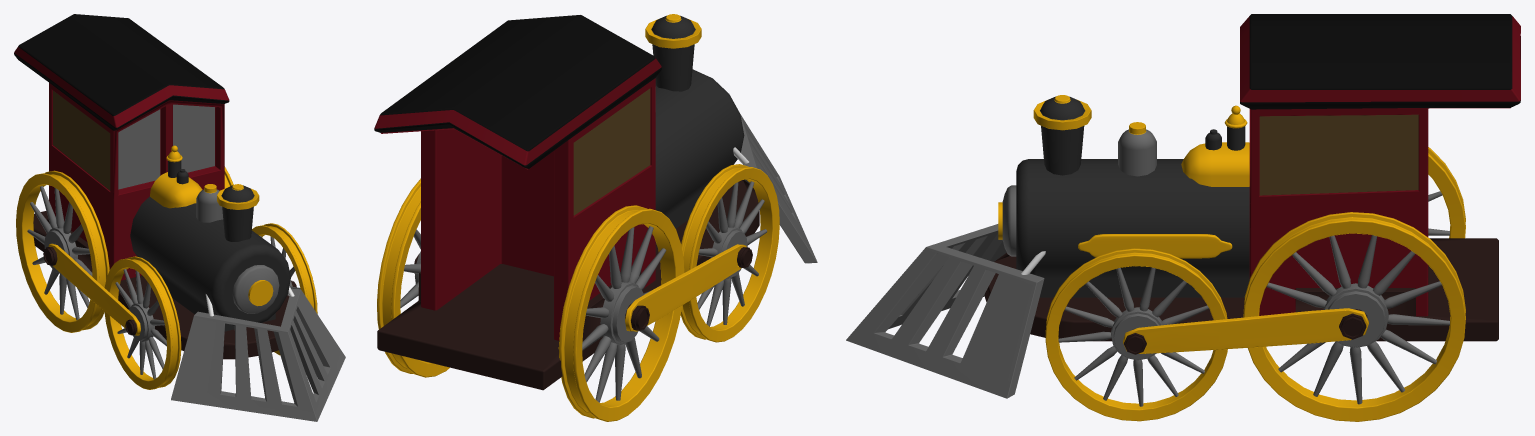
Rendered from Train.fbx.
3 renders of one model, left to right at view 1: azimuth 30°, elevation 25°; view 2: azimuth 150°, elevation 25°; view 3: azimuth 270°, elevation 25°, orthographic. The views are drawn at different scales.
Visible parts, largest first — view 1: Cube.001, Cube.002, Cylinder, Circle.001, Circle, Cube, Plane.001, Cylinder.004, Cube.003, Cylinder.005, Cylinder.007; view 2: Cube.001, Circle.001, Cube, Circle, Cylinder, Plane.001, Cylinder.004, Cube.002, Cylinder.003; view 3: Cube.001, Cylinder, Circle.001, Cube.002, Circle, Cube, Plane.001, Cylinder.004, Plane, Cube.003, Cylinder.005, Cylinder.007.
Boxes of the visible parts, <box> form: Cube.001: <box>14,14,229,280</box>; Cube.002: <box>171,288,345,421</box>; Cylinder: <box>130,196,290,331</box>; Circle.001: <box>16,166,233,332</box>; Circle: <box>104,223,317,389</box>; Cube: <box>33,211,289,359</box>; Plane.001: <box>48,243,140,335</box>; Cylinder.004: <box>217,184,259,241</box>; Cube.003: <box>150,172,202,208</box>; Cylinder.005: <box>196,184,223,222</box>; Cylinder.007: <box>166,145,182,177</box>; Cube.001: <box>374,15,661,340</box>; Circle.001: <box>377,178,684,421</box>; Cube: <box>377,180,759,390</box>; Circle: <box>680,164,779,342</box>; Cylinder: <box>655,69,744,242</box>; Plane.001: <box>625,244,746,331</box>; Cylinder.004: <box>645,14,701,91</box>; Cube.002: <box>740,114,817,263</box>; Cylinder.003: <box>414,254,649,330</box>; Cube.001: <box>1240,14,1520,316</box>; Cylinder: <box>998,159,1249,297</box>; Circle.001: <box>1243,147,1465,421</box>; Cube.002: <box>846,224,1044,398</box>; Circle: <box>1045,248,1227,421</box>; Cube: <box>985,238,1498,341</box>; Plane.001: <box>1123,308,1368,353</box>; Cylinder.004: <box>1033,95,1091,175</box>; Plane: <box>1078,234,1232,258</box>; Cube.003: <box>1181,142,1249,186</box>; Cylinder.005: <box>1118,122,1156,176</box>; Cylinder.007: <box>1224,105,1247,150</box>.
Bounding box in the file's own units: 723 × 1001 × 1768.
